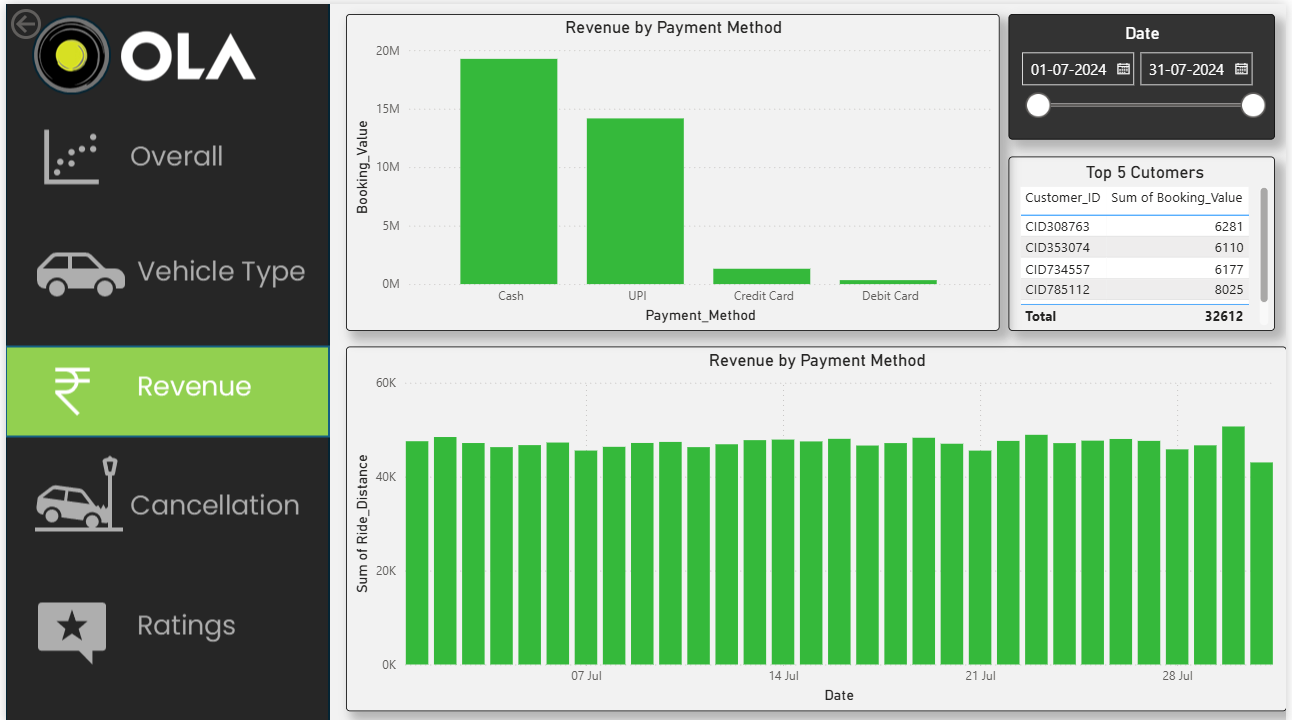

This screenshot's page, from the dashboard's own definition file:
{"tool":"powerbi","page":{"name":"Revenue","canvas":[1280,720],"ordinal":2},"visuals":[{"type":"actionButton","box":[0,220.8,325.7,92.9],"z":0},{"type":"actionButton","box":[0,445.2,325.7,92.9],"z":1000},{"type":"actionButton","box":[0,575.5,325.7,92.9],"z":2000},{"type":"actionButton","box":[0,106.2,325.7,92.9],"z":3000},{"type":"columnChart","title":"Revenue by Payment Method","fields":{"Y":["Sum(July.Booking_Value)"],"Category":["July.Payment_Method"]},"box":[339.4,9.9,653.5,316.9],"z":4000},{"type":"columnChart","title":"Revenue by Payment Method","fields":{"Y":["Sum(July.Ride_Distance)"],"Category":["July.Date"]},"box":[339.4,342.3,940.8,364.8],"z":5000},{"type":"slicer","title":"Date","fields":{"Values":["July.Date"]},"box":[1002.8,9.9,266.2,125.4],"z":6000},{"type":"tableEx","title":"Top 5 Cutomers","fields":{"Values":["July.Customer_ID","Sum(July.Booking_Value)"]},"box":[1002.8,152.1,266.2,174.6],"z":7000},{"type":"actionButton","box":[0,0,100,40],"z":8000}]}

Visuals, with their boxes in screenshot pixels (x1, y1, x2, y2), scaled from the page's 1280x720 canvas onto the 1292x720 screenshot:
actionButton: BBox(0, 221, 329, 314)
actionButton: BBox(0, 445, 329, 538)
actionButton: BBox(0, 576, 329, 668)
actionButton: BBox(0, 106, 329, 199)
"Revenue by Payment Method" columnChart: BBox(343, 10, 1002, 327)
"Revenue by Payment Method" columnChart: BBox(343, 342, 1291, 707)
"Date" slicer: BBox(1012, 10, 1281, 135)
"Top 5 Cutomers" tableEx: BBox(1012, 152, 1281, 327)
actionButton: BBox(0, 0, 101, 40)
